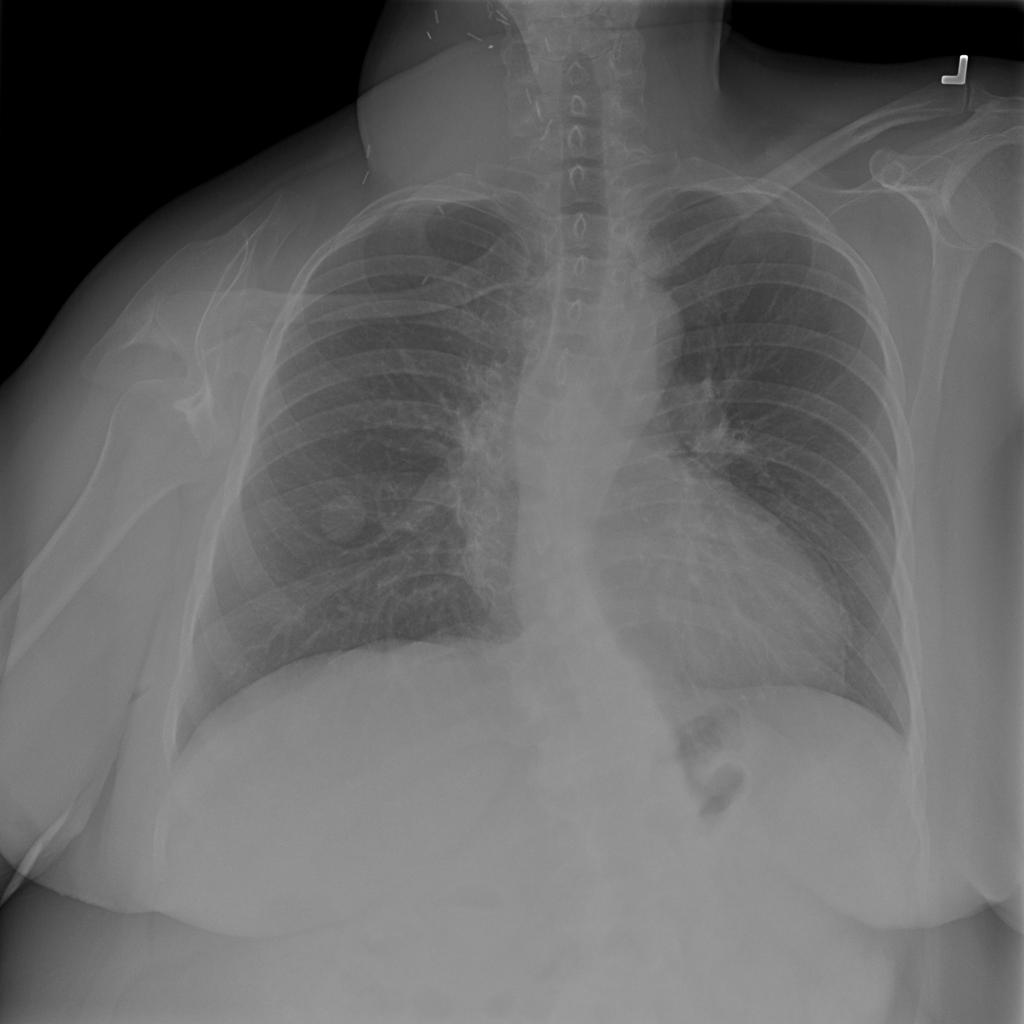nodule: (304, 479, 380, 550)
